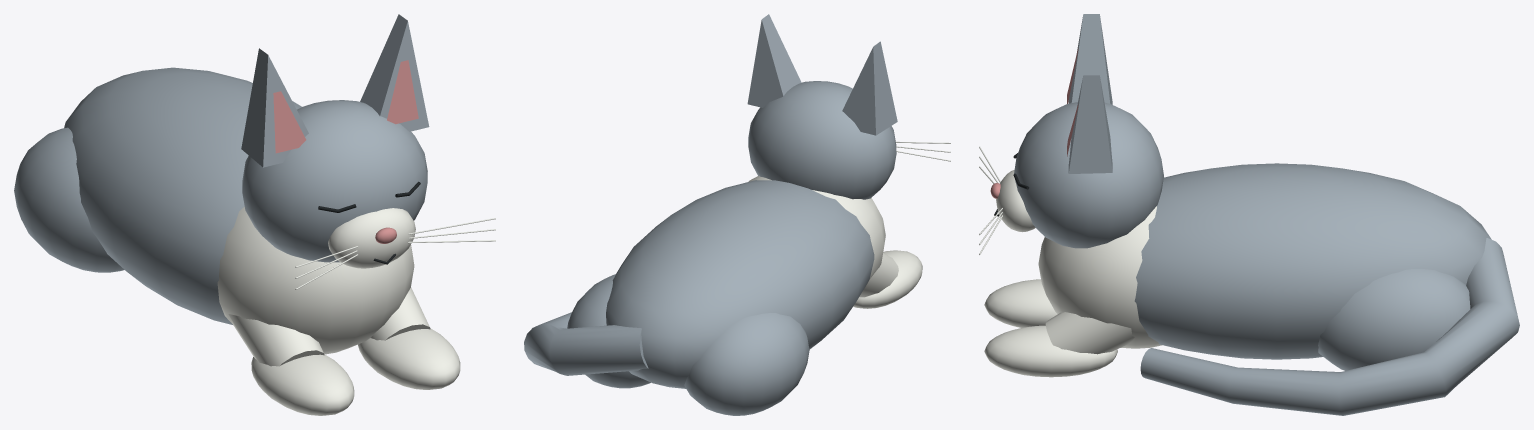
Rendered from animal_cat_gray_white_resting.glb.
3 renders of one model, left to right at view 1: azimuth 30°, elevation 25°; view 2: azimuth 150°, elevation 25°; view 3: azimuth 270°, elevation 25°, orthographic. The views are drawn at different scales.
Visible parts, largest first — view 1: RestingCat_Low_Body, RestingCat_Head, RestingCat_White_Chest, RestingCat_Folded_Haunch, RestingCat_Grounded_White_Paw, RestingCat_Grounded_White_Paw.001, RestingCat_Muzzle, RestingCat_Pointed_Ear, RestingCat_Pointed_Ear.001, RestingCat_Forward_Foreleg, RestingCat_Forward_Foreleg.001, RestingCat_Pink_Inner_Ear.001 (+1 smaller); view 2: RestingCat_Low_Body, RestingCat_Head, RestingCat_Folded_Haunch, RestingCat_Attached_Wrapped_Tail, RestingCat_Pointed_Ear, RestingCat_Pointed_Ear.001, RestingCat_Folded_Haunch.001, RestingCat_Grounded_White_Paw, RestingCat_White_Chest, RestingCat_Forward_Foreleg; view 3: RestingCat_Low_Body, RestingCat_Attached_Wrapped_Tail, RestingCat_Head, RestingCat_Folded_Haunch.001, RestingCat_White_Chest, RestingCat_Grounded_White_Paw.001, RestingCat_Pointed_Ear.001, RestingCat_Forward_Foreleg.001, RestingCat_Grounded_White_Paw, RestingCat_Pointed_Ear, RestingCat_Muzzle.
Part boxes in pixels (bbox=[...]): RestingCat_Low_Body: bbox=[64, 67, 301, 324]; RestingCat_Head: bbox=[242, 100, 427, 262]; RestingCat_White_Chest: bbox=[217, 207, 414, 354]; RestingCat_Folded_Haunch: bbox=[14, 127, 124, 272]; RestingCat_Grounded_White_Paw: bbox=[251, 354, 354, 415]; RestingCat_Grounded_White_Paw.001: bbox=[358, 328, 460, 389]; RestingCat_Muzzle: bbox=[328, 208, 415, 268]; RestingCat_Pointed_Ear: bbox=[241, 48, 308, 167]; RestingCat_Pointed_Ear.001: bbox=[360, 14, 429, 131]; RestingCat_Forward_Foreleg: bbox=[228, 314, 324, 366]; RestingCat_Forward_Foreleg.001: bbox=[370, 287, 430, 340]; RestingCat_Pink_Inner_Ear.001: bbox=[387, 60, 418, 124]; RestingCat_Low_Body: bbox=[606, 180, 874, 388]; RestingCat_Head: bbox=[748, 81, 896, 199]; RestingCat_Folded_Haunch: bbox=[684, 313, 809, 415]; RestingCat_Attached_Wrapped_Tail: bbox=[524, 312, 648, 375]; RestingCat_Pointed_Ear: bbox=[842, 41, 897, 135]; RestingCat_Pointed_Ear.001: bbox=[747, 14, 801, 107]; RestingCat_Folded_Haunch.001: bbox=[567, 274, 650, 388]; RestingCat_Grounded_White_Paw: bbox=[853, 250, 922, 308]; RestingCat_White_Chest: bbox=[748, 176, 885, 288]; RestingCat_Forward_Foreleg: bbox=[859, 253, 898, 297]; RestingCat_Low_Body: bbox=[1134, 163, 1491, 359]; RestingCat_Attached_Wrapped_Tail: bbox=[1140, 238, 1519, 415]; RestingCat_Head: bbox=[1014, 102, 1163, 248]; RestingCat_Folded_Haunch.001: bbox=[1318, 269, 1470, 370]; RestingCat_White_Chest: bbox=[1038, 206, 1162, 348]; RestingCat_Grounded_White_Paw.001: bbox=[984, 325, 1117, 377]; RestingCat_Pointed_Ear.001: bbox=[1068, 75, 1112, 173]; RestingCat_Forward_Foreleg.001: bbox=[1045, 312, 1134, 354]; RestingCat_Grounded_White_Paw: bbox=[984, 279, 1057, 327]; RestingCat_Pointed_Ear: bbox=[1068, 14, 1112, 104]; RestingCat_Muzzle: bbox=[996, 170, 1035, 232].
Bounding box in the file's own units: 0.3589 × 0.366 × 0.5899.
